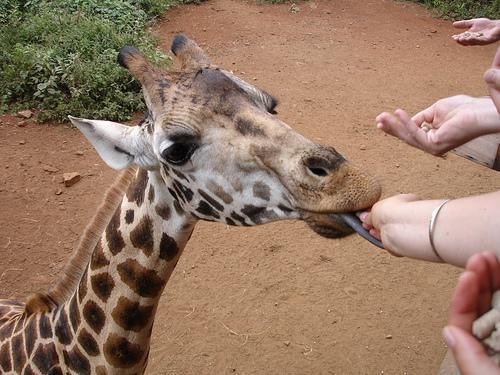hand: (374, 91, 498, 158), (441, 246, 498, 373), (360, 187, 429, 267), (449, 11, 499, 45)
